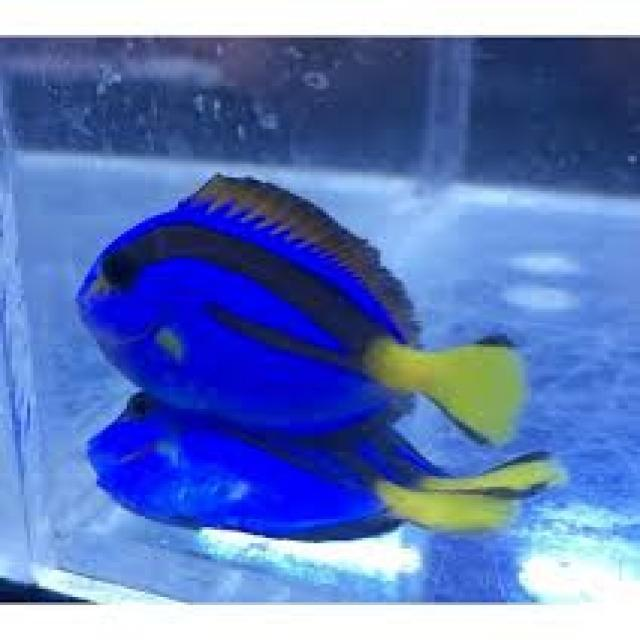TangFish: (73, 172, 526, 453), (88, 376, 555, 539)
